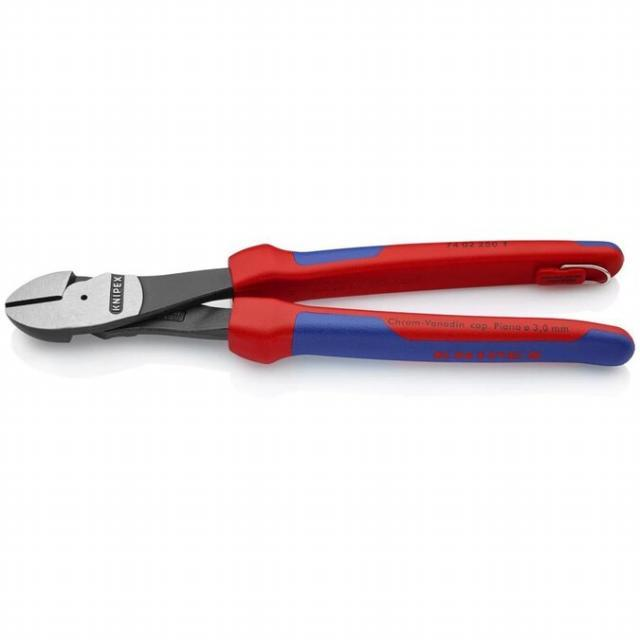pliers: (0, 233, 637, 373)
